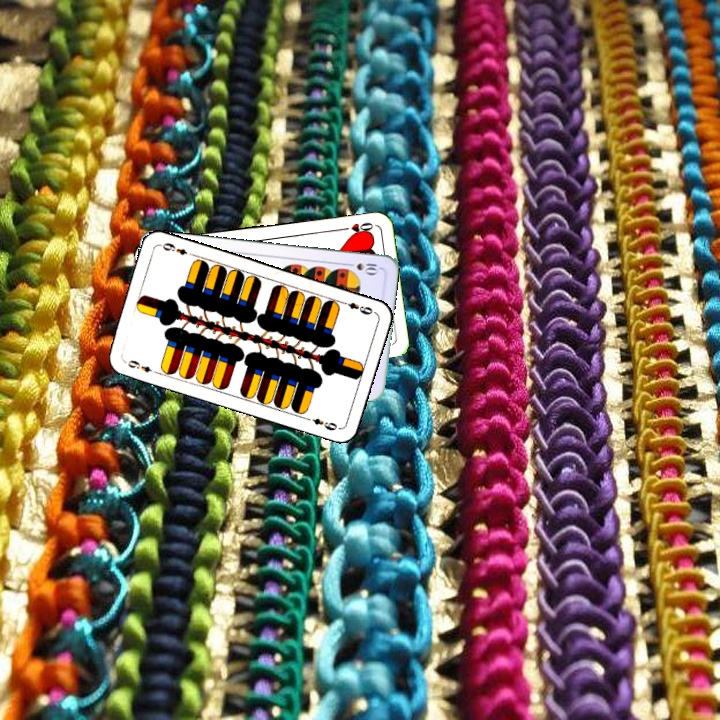E9: (337, 297, 377, 317), (121, 356, 161, 376)
HO: (336, 218, 376, 236)
S10: (342, 259, 380, 276)
